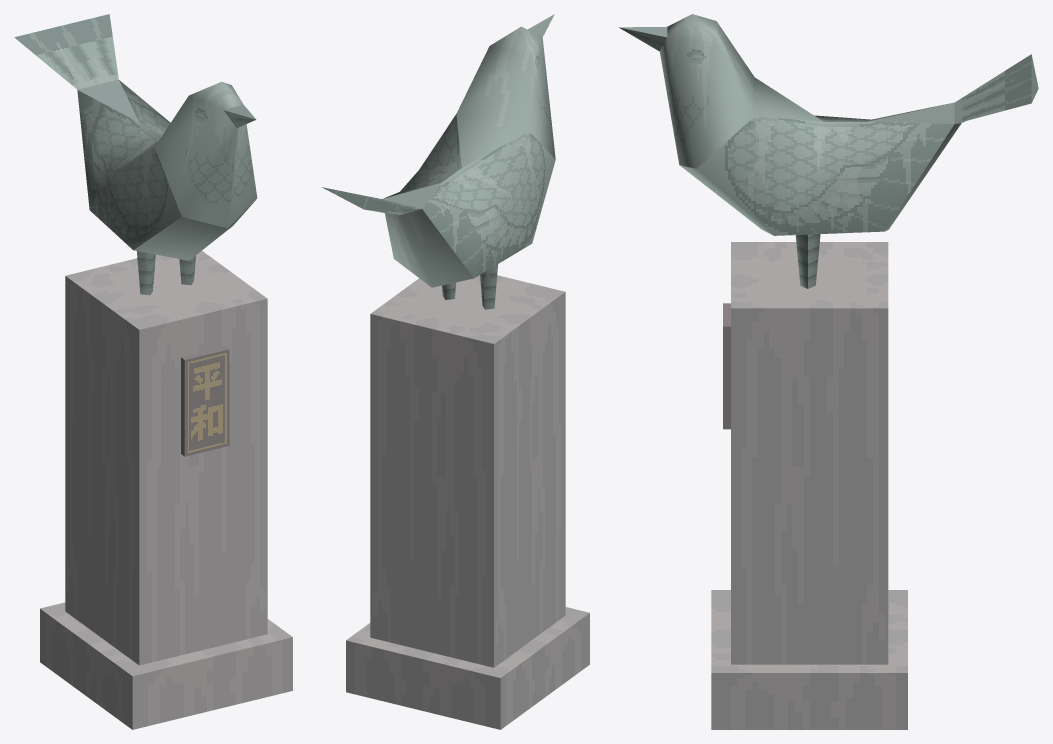
File: 03e7_Dove_Statue.glb
The picture shows the model from 3 angles, left to right: view 1: azimuth 30°, elevation 25°; view 2: azimuth 150°, elevation 25°; view 3: azimuth 270°, elevation 25°; orthographic projection. The views are drawn at different scales.
Parts seen in each view (by area): view 1: part_0; view 2: part_0; view 3: part_0.
Boxes of the visible parts, x1,y1,x2,y2 form: part_0: (14, 14, 292, 729); part_0: (321, 14, 589, 729); part_0: (619, 14, 1038, 729).
Size of the model in its own units: 0.4062 by 1.54 by 0.8689.
1 material, 1 textured.
